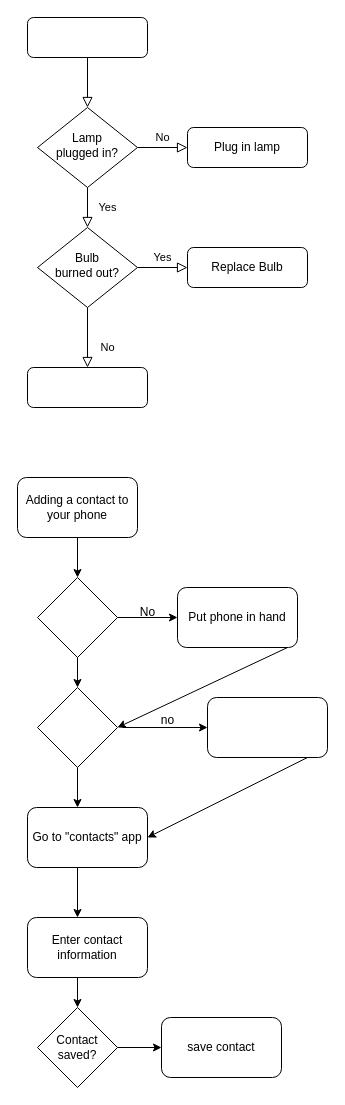
This 345x1105 diagram has some shape labels left out. Here are the shapes that lost their labels. From the top down, the centre of each, then its label:
At (x=87, y=37): "Lamp doesn't work".
At (x=87, y=387): "Repair Lamp".
At (x=77, y=617): "Phone in hand?".
At (x=77, y=727): "Is the phone on?".
At (x=267, y=727): "Turn phone on".
